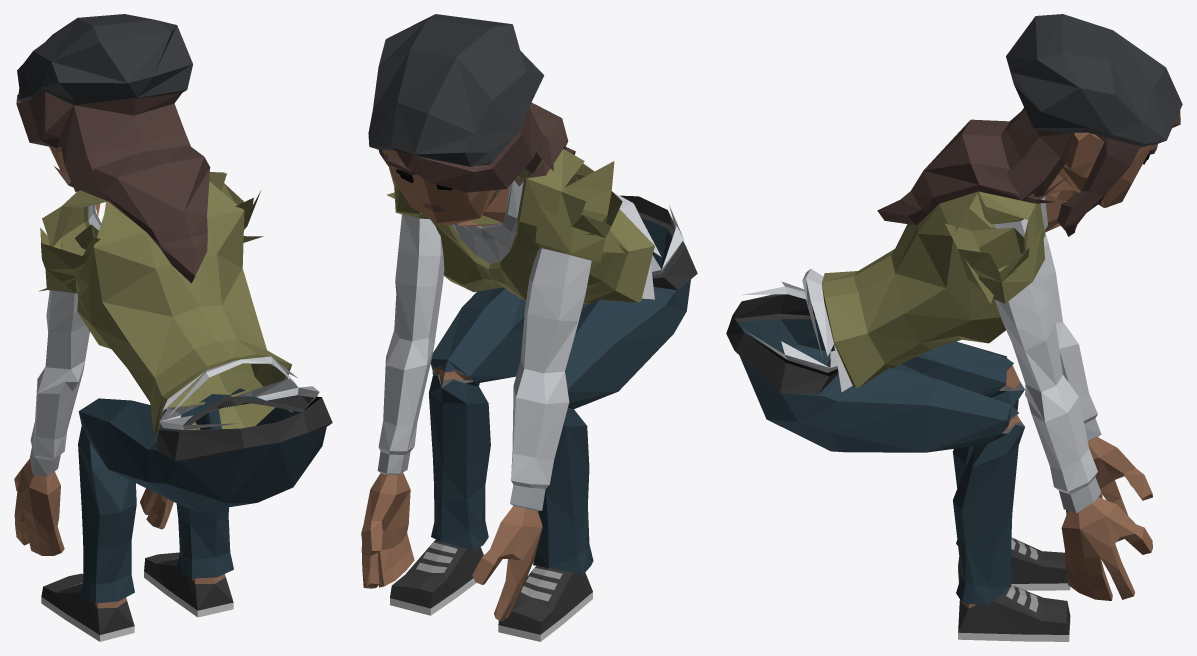
File: Demon_catch.obj
3 renders of one model, left to right at view 1: azimuth 30°, elevation 25°; view 2: azimuth 150°, elevation 25°; view 3: azimuth 270°, elevation 25°, orthographic. The views are drawn at different scales.
Visible parts, largest first — view 1: Demon_catch; view 2: Demon_catch; view 3: Demon_catch.
Part boxes in pixels (x1,y1,x2,y2): Demon_catch: [14, 14, 332, 641]; Demon_catch: [361, 14, 697, 641]; Demon_catch: [726, 14, 1182, 641].
Size of the model in its own units: 0.5319 by 1.28 by 0.9083.
Materials: 1 (1 with a texture image).
